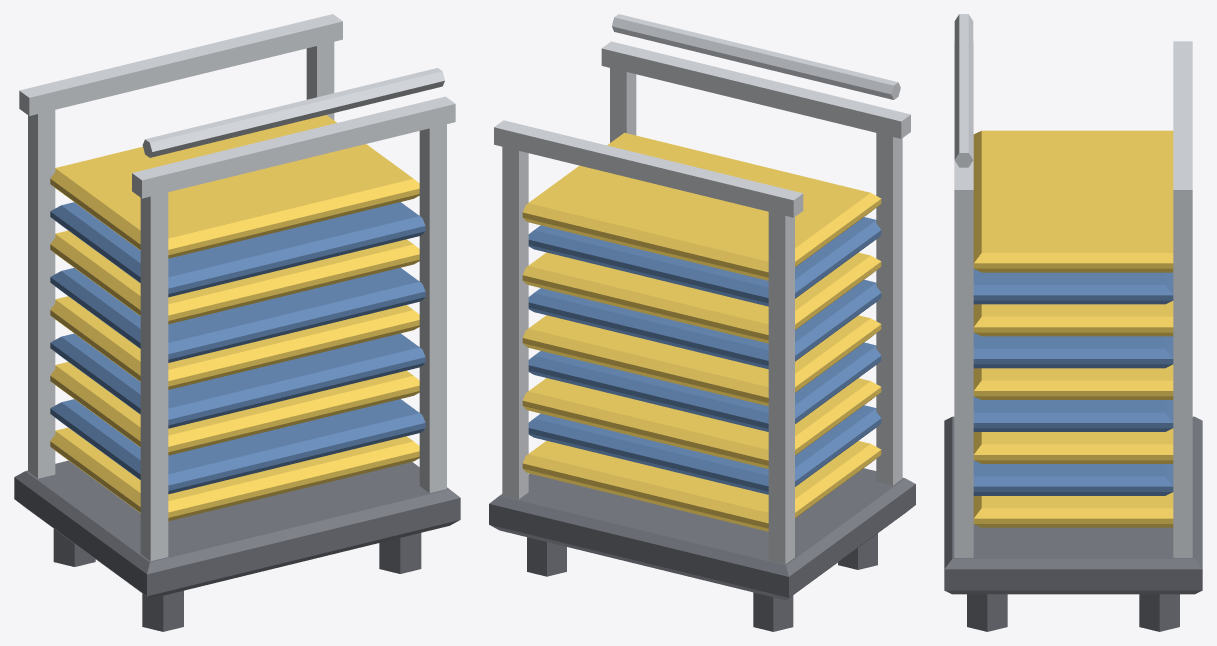
The model's file is airport-terminal-and-ground-operations-tray-return-tro-6d84dbed.glb.
3 views of the same model, side by side, from view 1: azimuth 30°, elevation 25°; view 2: azimuth 150°, elevation 25°; view 3: azimuth 270°, elevation 25° (orthographic). The views are drawn at different scales.
Visible parts, largest first — view 1: tray-return-trolley; view 2: tray-return-trolley; view 3: tray-return-trolley.
Part boxes in pixels (box(x1,y1,x2,y2)): tray-return-trolley: box(14, 14, 460, 631); tray-return-trolley: box(489, 14, 915, 631); tray-return-trolley: box(944, 14, 1202, 631).
Size of the model in its own units: 0.9 by 1.36 by 0.66.
